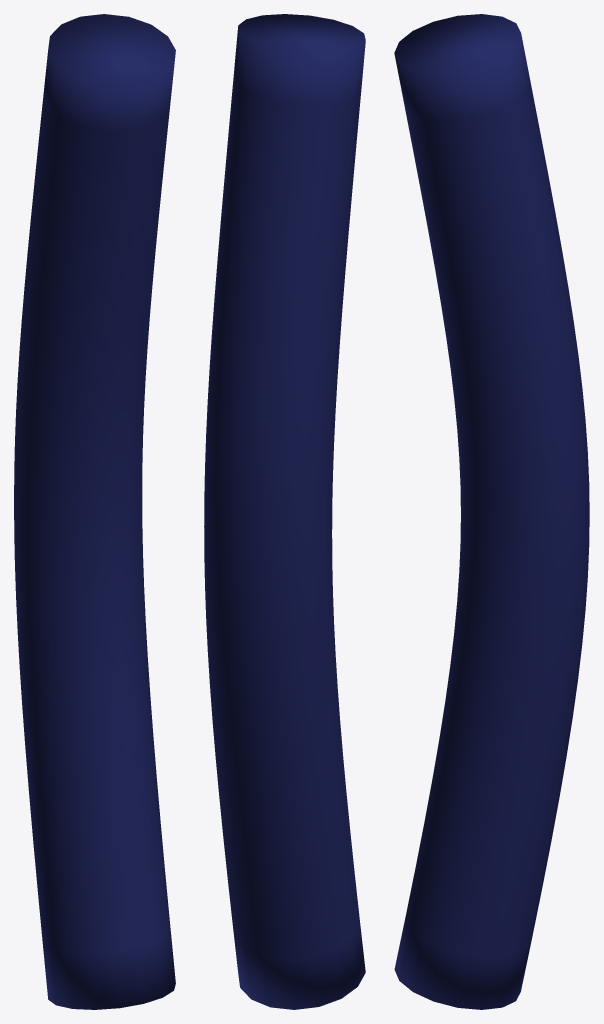
Rendered from Volume5.fbx.
The picture shows the model from 3 angles, left to right: view 1: azimuth 30°, elevation 25°; view 2: azimuth 150°, elevation 25°; view 3: azimuth 270°, elevation 25°; orthographic projection.
Visible parts, largest first — view 1: Volume5; view 2: Volume5; view 3: Volume5.
Boxes of the visible parts, left/top/right/bottom form: Volume5: left=14, top=14, right=175, bottom=1009; Volume5: left=204, top=14, right=365, bottom=1009; Volume5: left=394, top=14, right=589, bottom=1009.
Bounding box in the file's own units: 32.2 × 265 × 48.87.
